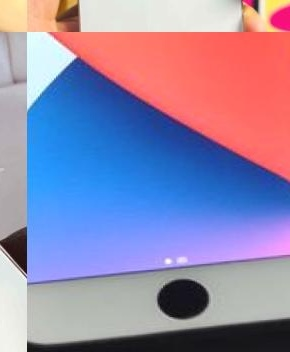screen_defect: (130, 252, 239, 331)
